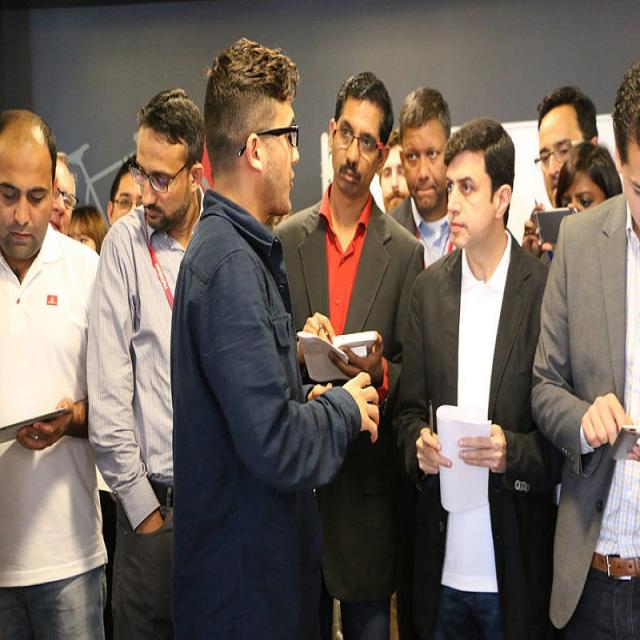body: (162, 30, 392, 639), (392, 110, 569, 639), (274, 66, 427, 640), (85, 83, 209, 639), (525, 51, 639, 638), (0, 104, 109, 640), (514, 77, 603, 265), (382, 84, 458, 271), (518, 139, 626, 262), (371, 128, 418, 218), (105, 149, 145, 228), (50, 146, 79, 239), (66, 204, 109, 258)
